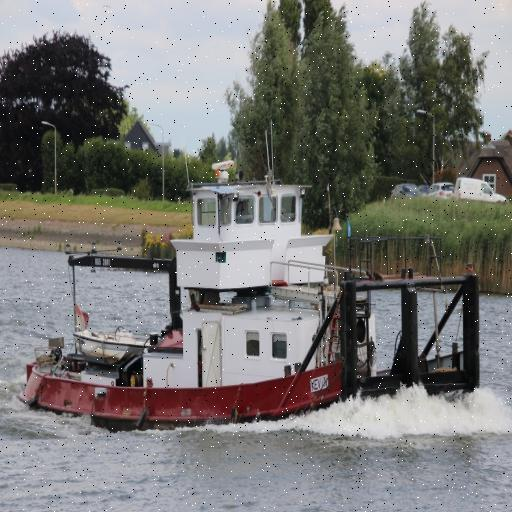tugboat: (17, 156, 486, 440)
